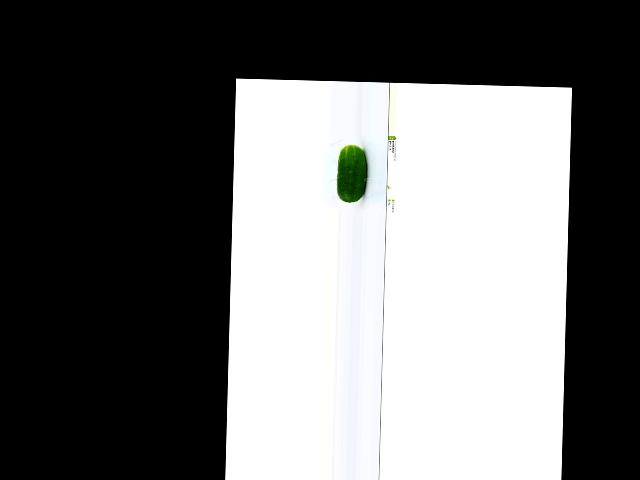cucumber: (337, 145, 367, 203)
